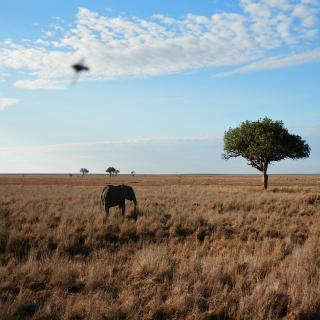Elephant: (100, 182, 142, 225)
